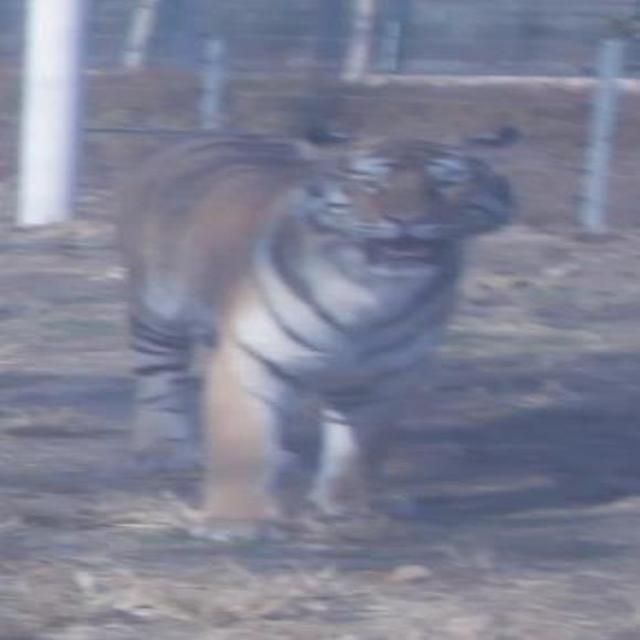tiger: (113, 126, 518, 529)
